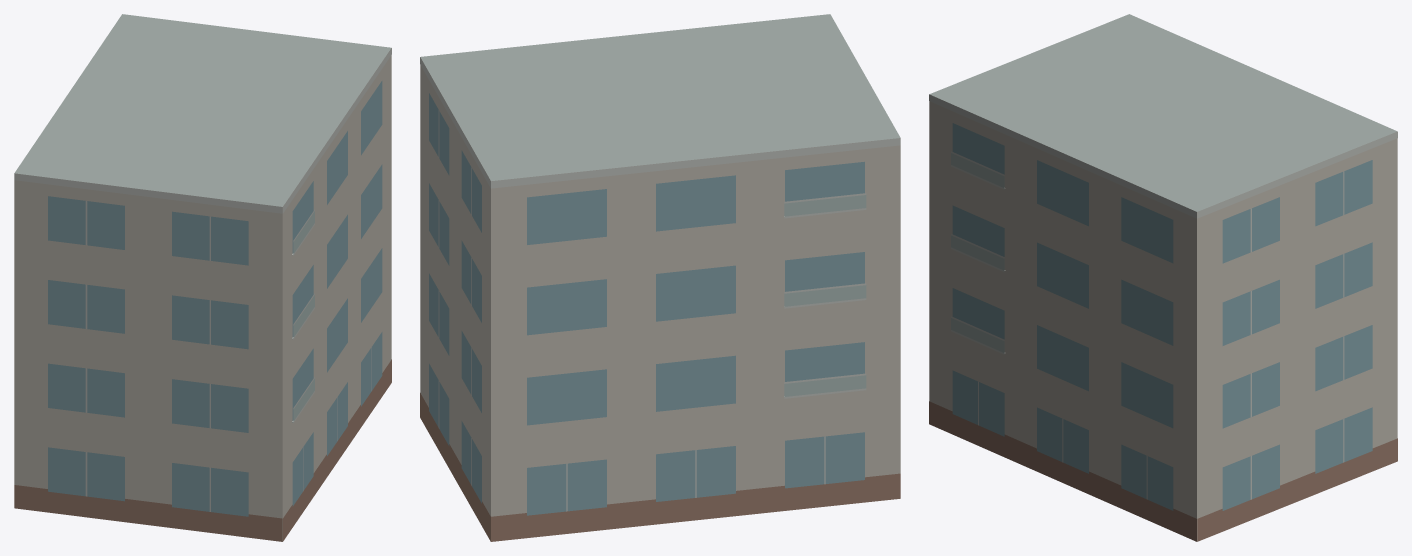
The model's file is survey-upis-32686909.glb.
3 views of the same model, side by side, from view 1: azimuth 30°, elevation 25°; view 2: azimuth 150°, elevation 25°; view 3: azimuth 270°, elevation 25° (orthographic). The views are drawn at different scales.
Visible parts, largest first — view 1: survey-upis-32686909.tmp; view 2: survey-upis-32686909.tmp; view 3: survey-upis-32686909.tmp.
Boxes of the visible parts, x1,y1,x2,y2 form: survey-upis-32686909.tmp: (14,14,391,541); survey-upis-32686909.tmp: (420,14,900,541); survey-upis-32686909.tmp: (929,14,1397,541).
Size of the model in its own units: 15.32 by 11.9 by 15.32.
